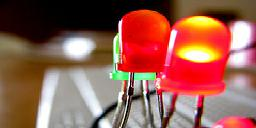LED: (161, 13, 226, 121), (118, 8, 171, 128)
